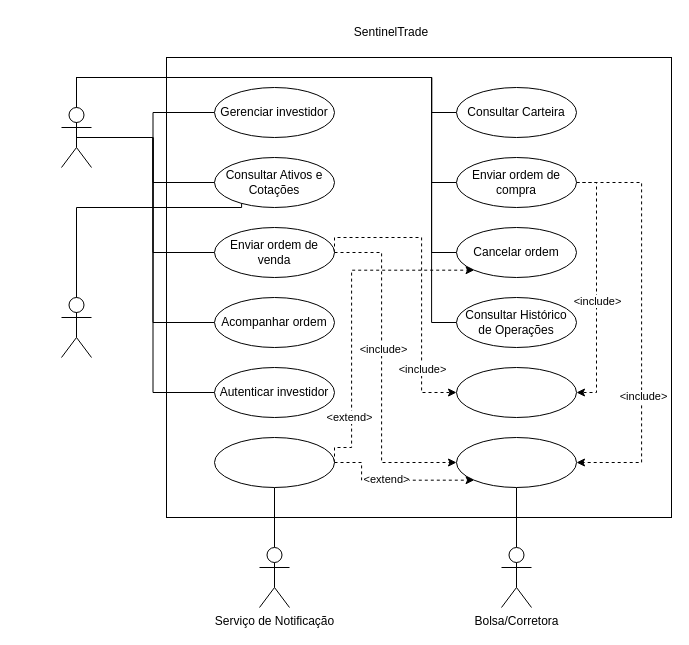
Some shapes in this 689 by 645 pixel diagram are drawn without their labels. Here are the shapes that lost their labels. From the top down, the centre of each, then its label:
At pixel 76 137: "Investidor".
At pixel 76 327: "Provedor de Cotações".
At pixel 516 392: "Validar Ordem".
At pixel 274 462: "Notificar Investidor".
At pixel 516 462: "Processar Ordem".
